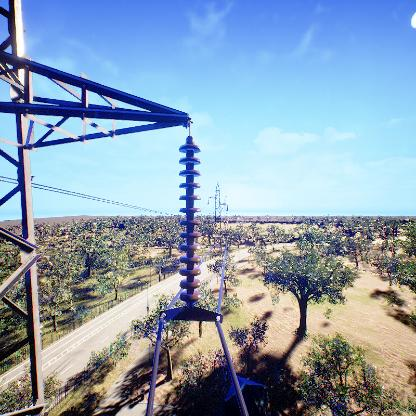insulator: (177, 140, 204, 307)
